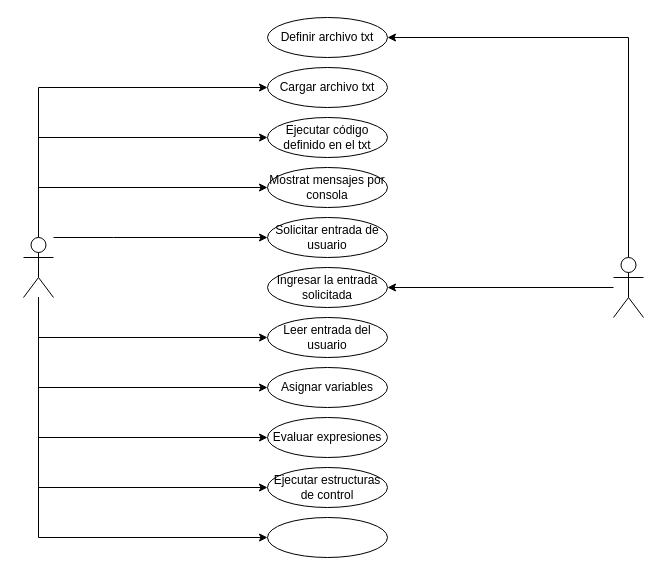
Image size: 661x575. Some labels were removed from this diagram. Here are the shapes that lost their labels. From the top down, the centre of each, then its label:
At (x=38, y=267): "Sistema".
At (x=628, y=287): "Actor".
At (x=327, y=537): "Generar archivo de música MIDI".
